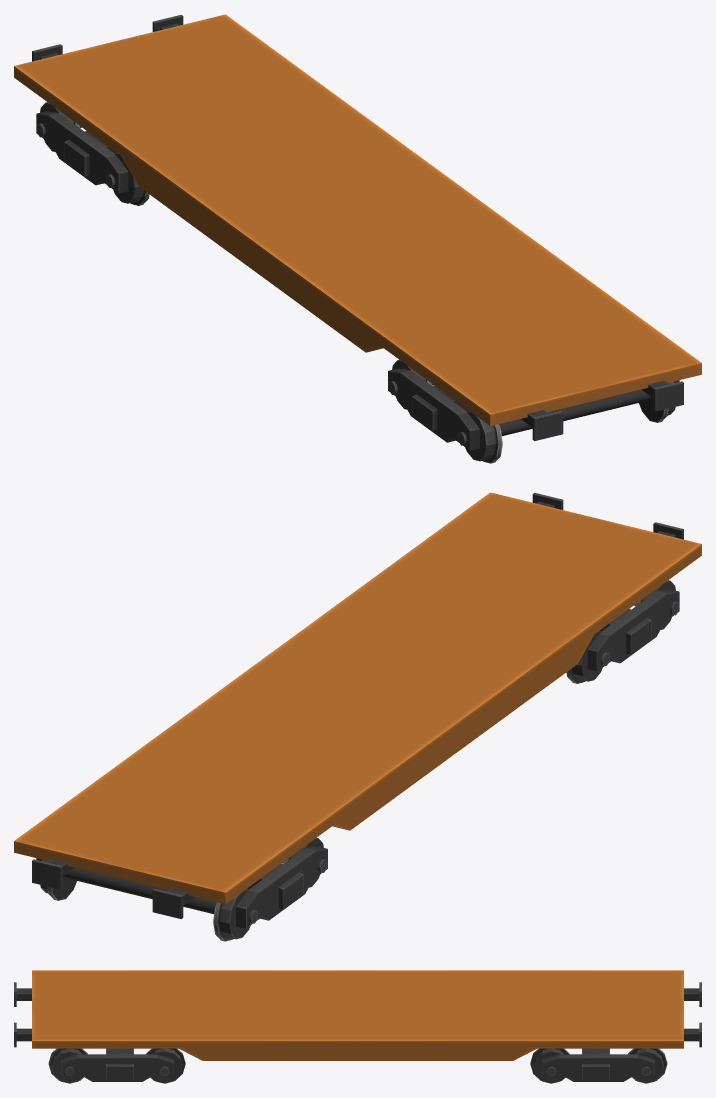
The model's file is vagon orange.fbx.
3 renders of one model, top to bottom at view 1: azimuth 30°, elevation 25°; view 2: azimuth 150°, elevation 25°; view 3: azimuth 270°, elevation 25°, orthographic. The views are drawn at different scales.
Visible parts, largest first — view 1: Box089; view 2: Box089; view 3: Box089.
Part boxes in pixels (<box>): Box089: <box>14,14,701,463</box>; Box089: <box>14,492,701,941</box>; Box089: <box>14,970,701,1083</box>.
Bounding box in the file's own units: 92.26 × 28.99 × 367.
